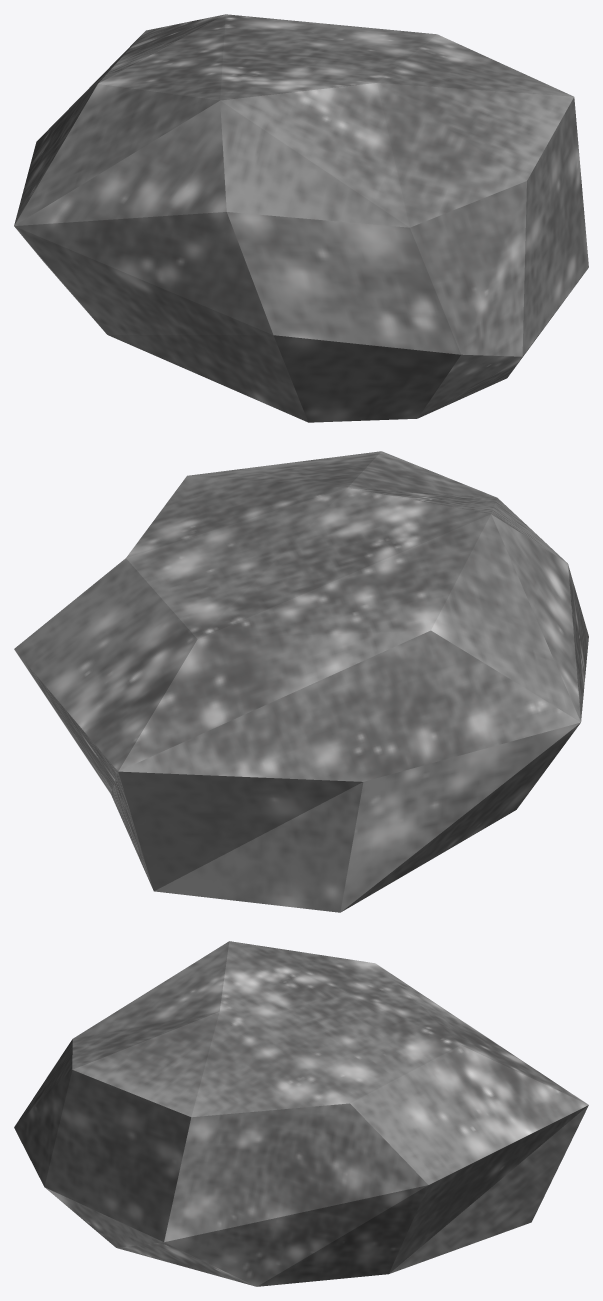
Rendered from stone_1.FBX.
3 views of the same model, one above another, from view 1: azimuth 30°, elevation 25°; view 2: azimuth 150°, elevation 25°; view 3: azimuth 270°, elevation 25° (orthographic). The views are drawn at different scales.
Parts seen in each view (by area): view 1: stone_1; view 2: stone_1; view 3: stone_1.
Boxes of the visible parts, <box> form: stone_1: <box>14,14,588,422</box>; stone_1: <box>14,451,588,912</box>; stone_1: <box>14,941,588,1286</box>.
Bounding box in the file's own units: 41.97 × 22.14 × 51.84.
Materials: 1 (1 with a texture image).
